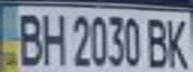0: (121, 14, 145, 68), (87, 11, 109, 68)
2: (66, 10, 93, 67)
3: (106, 11, 127, 68)
B: (9, 9, 45, 68), (145, 14, 172, 70)
H: (36, 9, 69, 66)
K: (163, 14, 193, 70)
